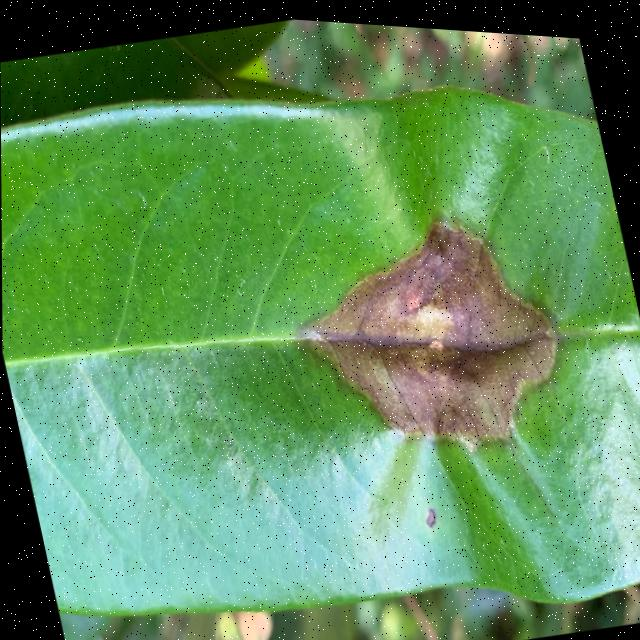Phytophthora: (245, 134, 608, 515)
